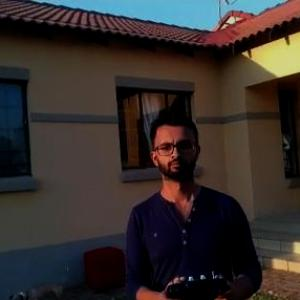follow: (124, 103, 273, 299)
null: (4, 265, 75, 299)
